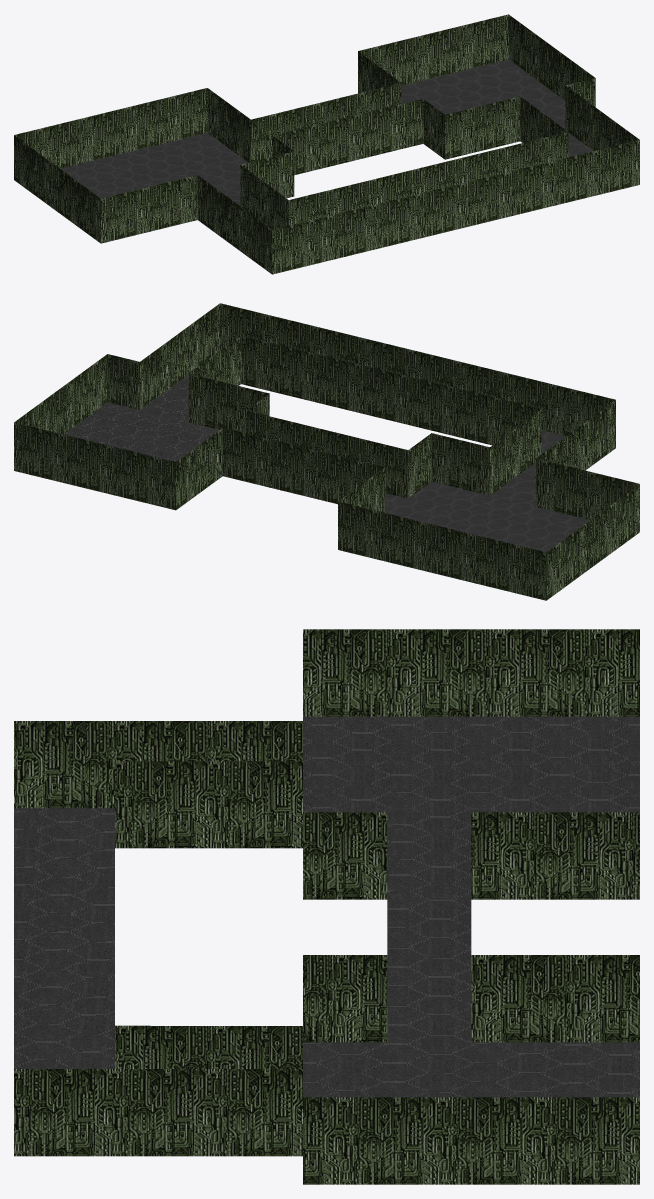
Rendered from testlevel.glb.
3 views of the same model, one above another, from view 1: azimuth 30°, elevation 25°; view 2: azimuth 150°, elevation 25°; view 3: azimuth 270°, elevation 25° (orthographic). The views are drawn at different scales.
Parts seen in each view (by area): view 1: Plane; view 2: Plane; view 3: Plane.
Part boxes in pixels (x1,y1,x2,y2): Plane: (14, 14, 639, 274); Plane: (14, 303, 639, 600); Plane: (14, 629, 639, 1184).
Bounding box in the file's own units: 23 × 2 × 13.
2 materials, 2 textured.
